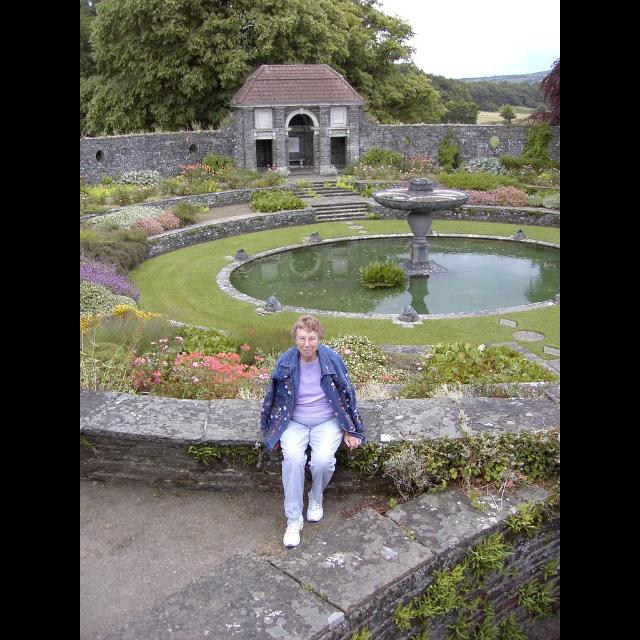Flower: (170, 341, 270, 384), (135, 358, 171, 389), (174, 336, 182, 342)
